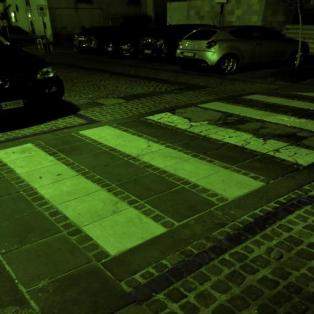Paso de Cebra: (74, 86, 314, 214)
